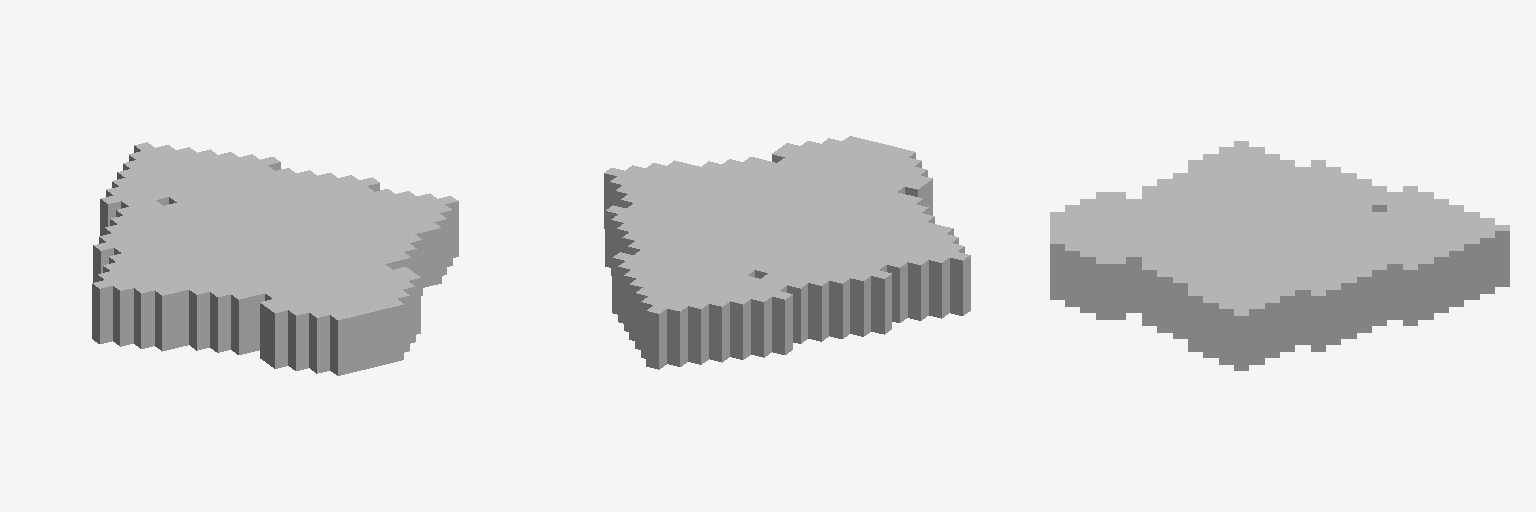
File: First.obj
The picture shows the model from 3 angles: view 1: azimuth 30°, elevation 25°; view 2: azimuth 150°, elevation 25°; view 3: azimuth 270°, elevation 25°; orthographic projection.
Parts seen in each view (by area): view 1: object 1; view 2: object 1; view 3: object 1.
Boxes of the visible parts, x1=… form: object 1: x1=92, y1=142, x2=458, y2=375; object 1: x1=604, y1=136, x2=970, y2=369; object 1: x1=1050, y1=141, x2=1509, y2=370.
Size of the model in its own units: 2.7 by 0.4 by 3.